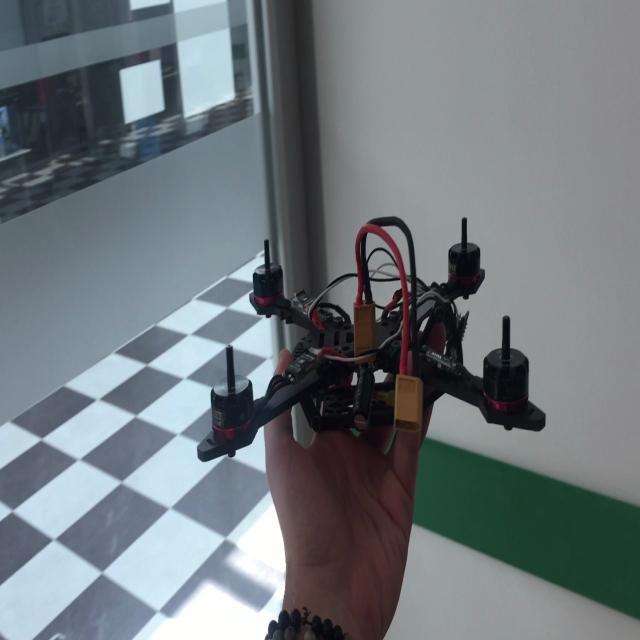drone: (202, 200, 553, 462)
